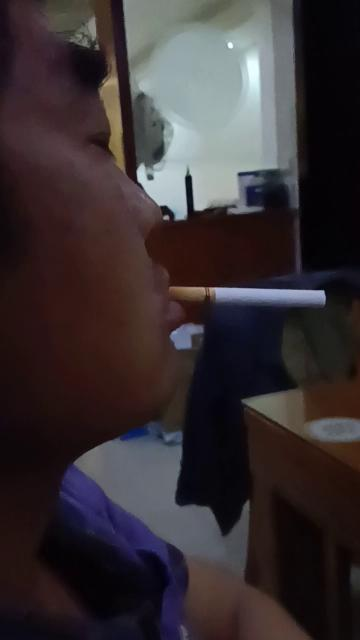Cigarette: (166, 285, 328, 309)
